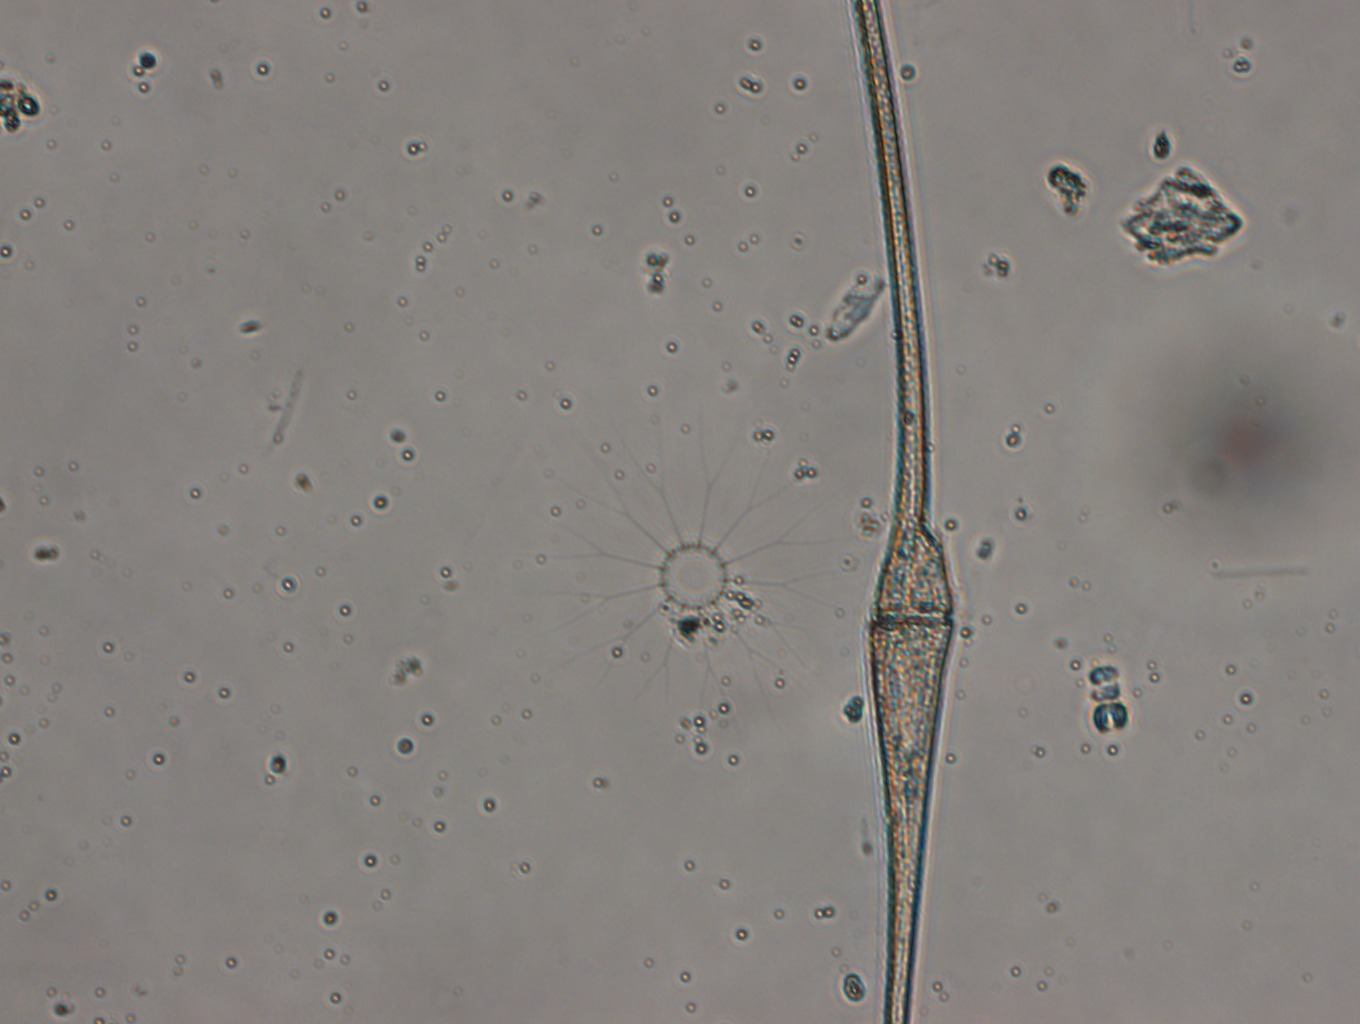bacteriastrum: (542, 407, 851, 720)
ceratium fusus: (848, 1, 955, 1024)
